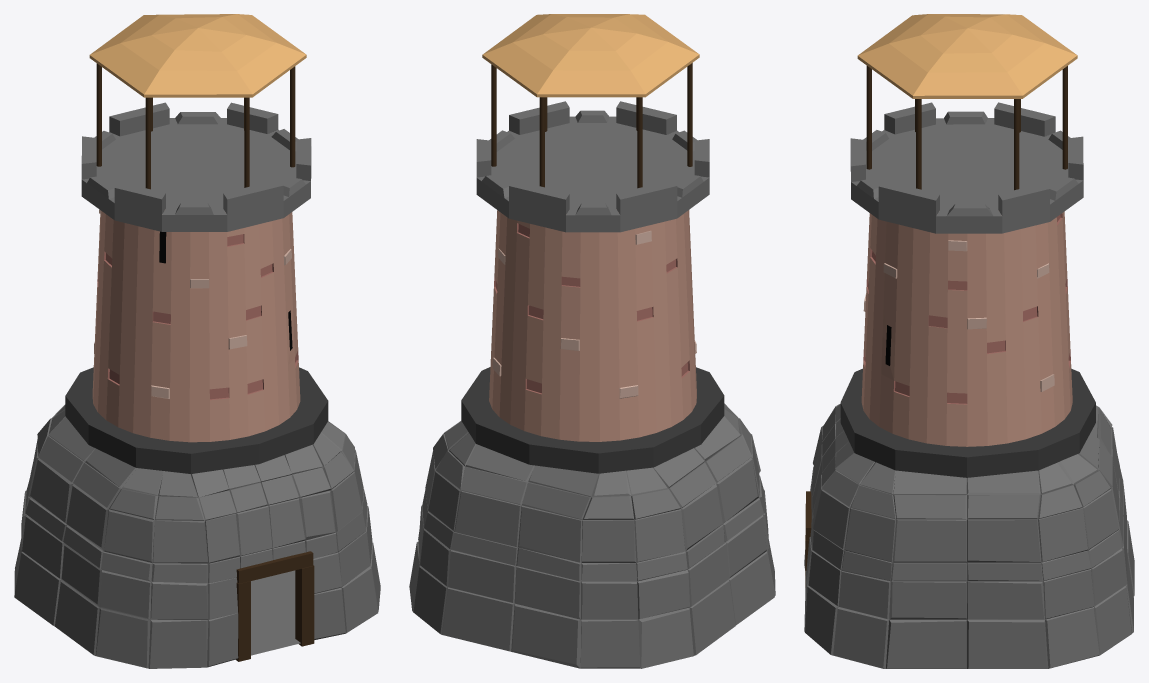
Rendered from _MudBrickTower.fbx.
3 views of the same model, side by side, from view 1: azimuth 30°, elevation 25°; view 2: azimuth 150°, elevation 25°; view 3: azimuth 270°, elevation 25° (orthographic).
Visible parts, largest first — view 1: MudBrickTower; view 2: MudBrickTower; view 3: MudBrickTower.
Part boxes in pixels (x1,y1,x2,y2): MudBrickTower: (14, 14, 380, 668); MudBrickTower: (409, 14, 775, 668); MudBrickTower: (804, 14, 1134, 668).
Size of the model in its own units: 829 by 1563 by 817.
